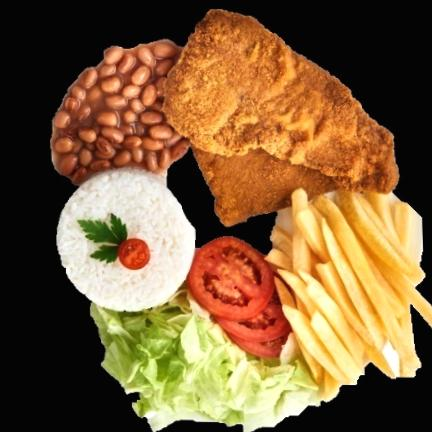beans: (51, 41, 189, 185)
chicken: (163, 10, 398, 226)
potato: (266, 191, 432, 398)
rice: (91, 287, 321, 432), (58, 168, 195, 311)
tomato: (186, 237, 291, 357), (119, 240, 149, 270)
